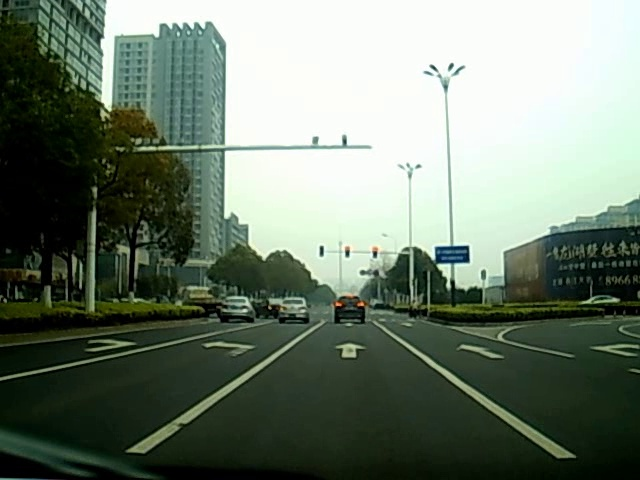Traffic_Light_stop: (371, 248, 379, 264), (344, 246, 351, 260)
